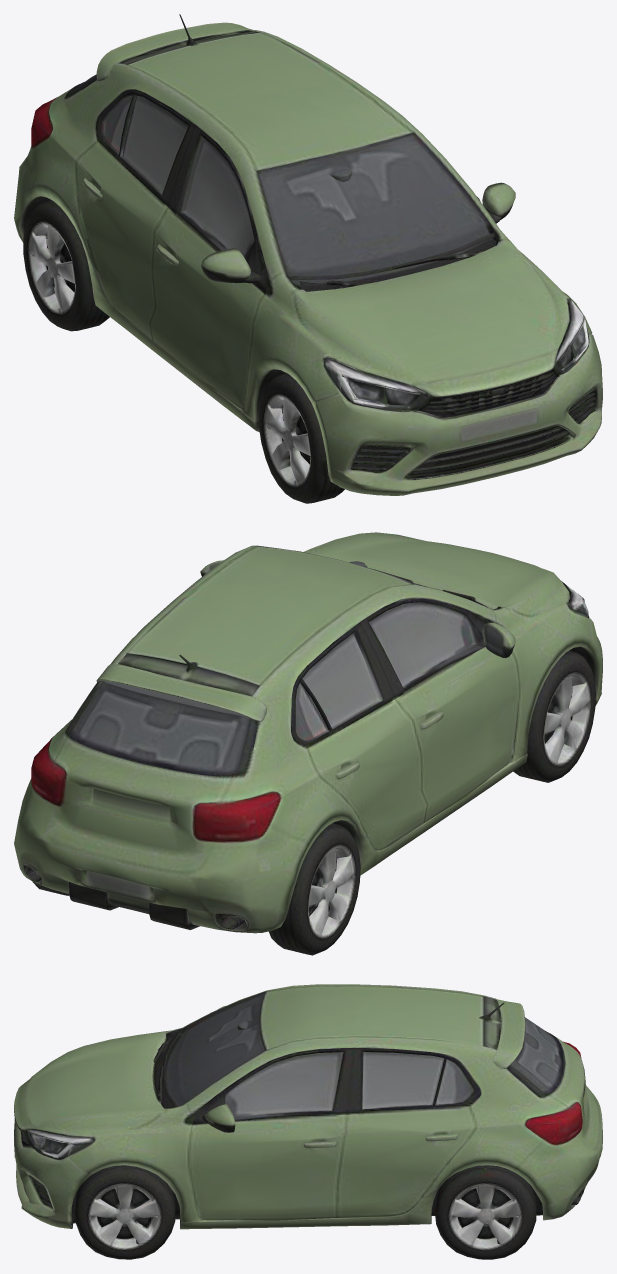
Rendered from car_hatchback.glb.
3 renders of one model, top to bottom at view 1: azimuth 30°, elevation 25°; view 2: azimuth 150°, elevation 25°; view 3: azimuth 270°, elevation 25°, orthographic. The views are drawn at different scales.
Parts seen in each view (by area): view 1: car_hatchback_smart; view 2: car_hatchback_smart; view 3: car_hatchback_smart.
Boxes of the visible parts, <box> form: car_hatchback_smart: <box>14,14,602,503</box>; car_hatchback_smart: <box>14,532,602,955</box>; car_hatchback_smart: <box>14,984,602,1259</box>.
Size of what is drawn, in the model's own units: 1.78 by 1.48 by 3.81.
Materials: 1 (1 with a texture image).
